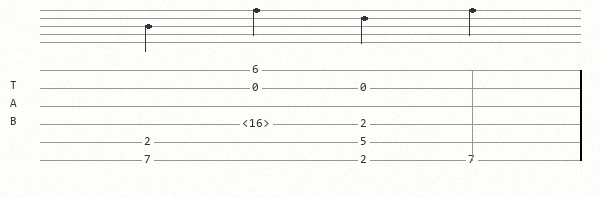0: (252, 82, 263, 94), (360, 82, 371, 94)
2: (144, 136, 155, 148), (360, 118, 371, 130), (360, 154, 371, 166)
5: (360, 136, 371, 148)
6: (252, 64, 263, 76)
7: (144, 154, 155, 166), (468, 154, 479, 166)
harmonic: (242, 118, 274, 130)
